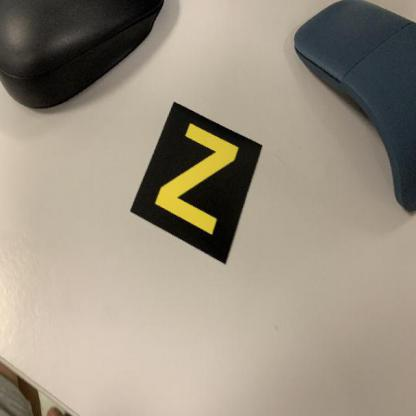z: (129, 97, 265, 266)
